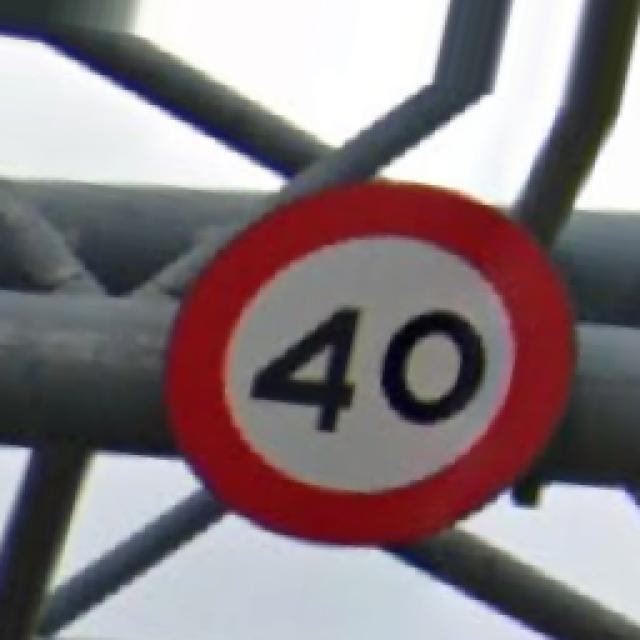Speed Limit -40-: (168, 180, 570, 540)
